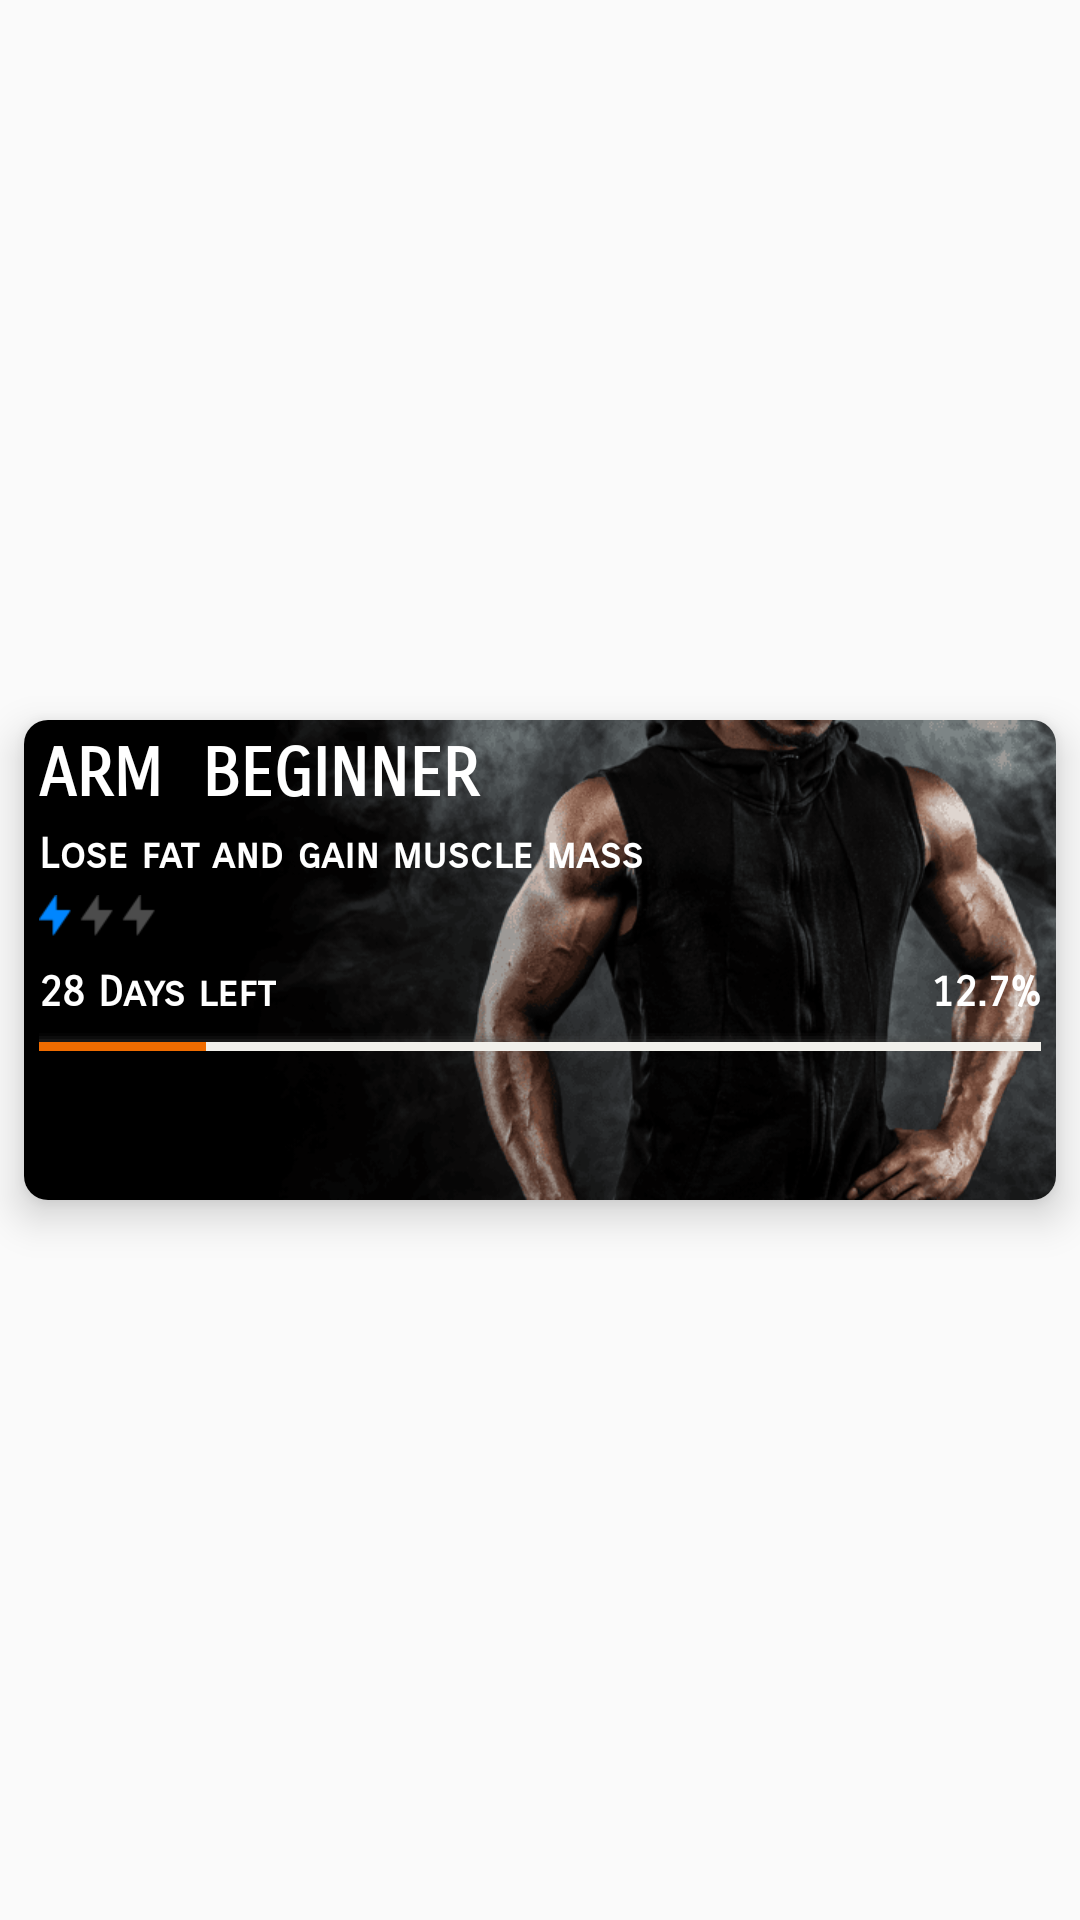

Point at icon controls on the screen. Image size 1080w x 1920h, points as (x,y).
level: (96,915)
